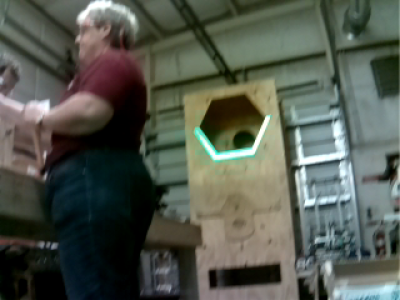target: (194, 115, 273, 161)
